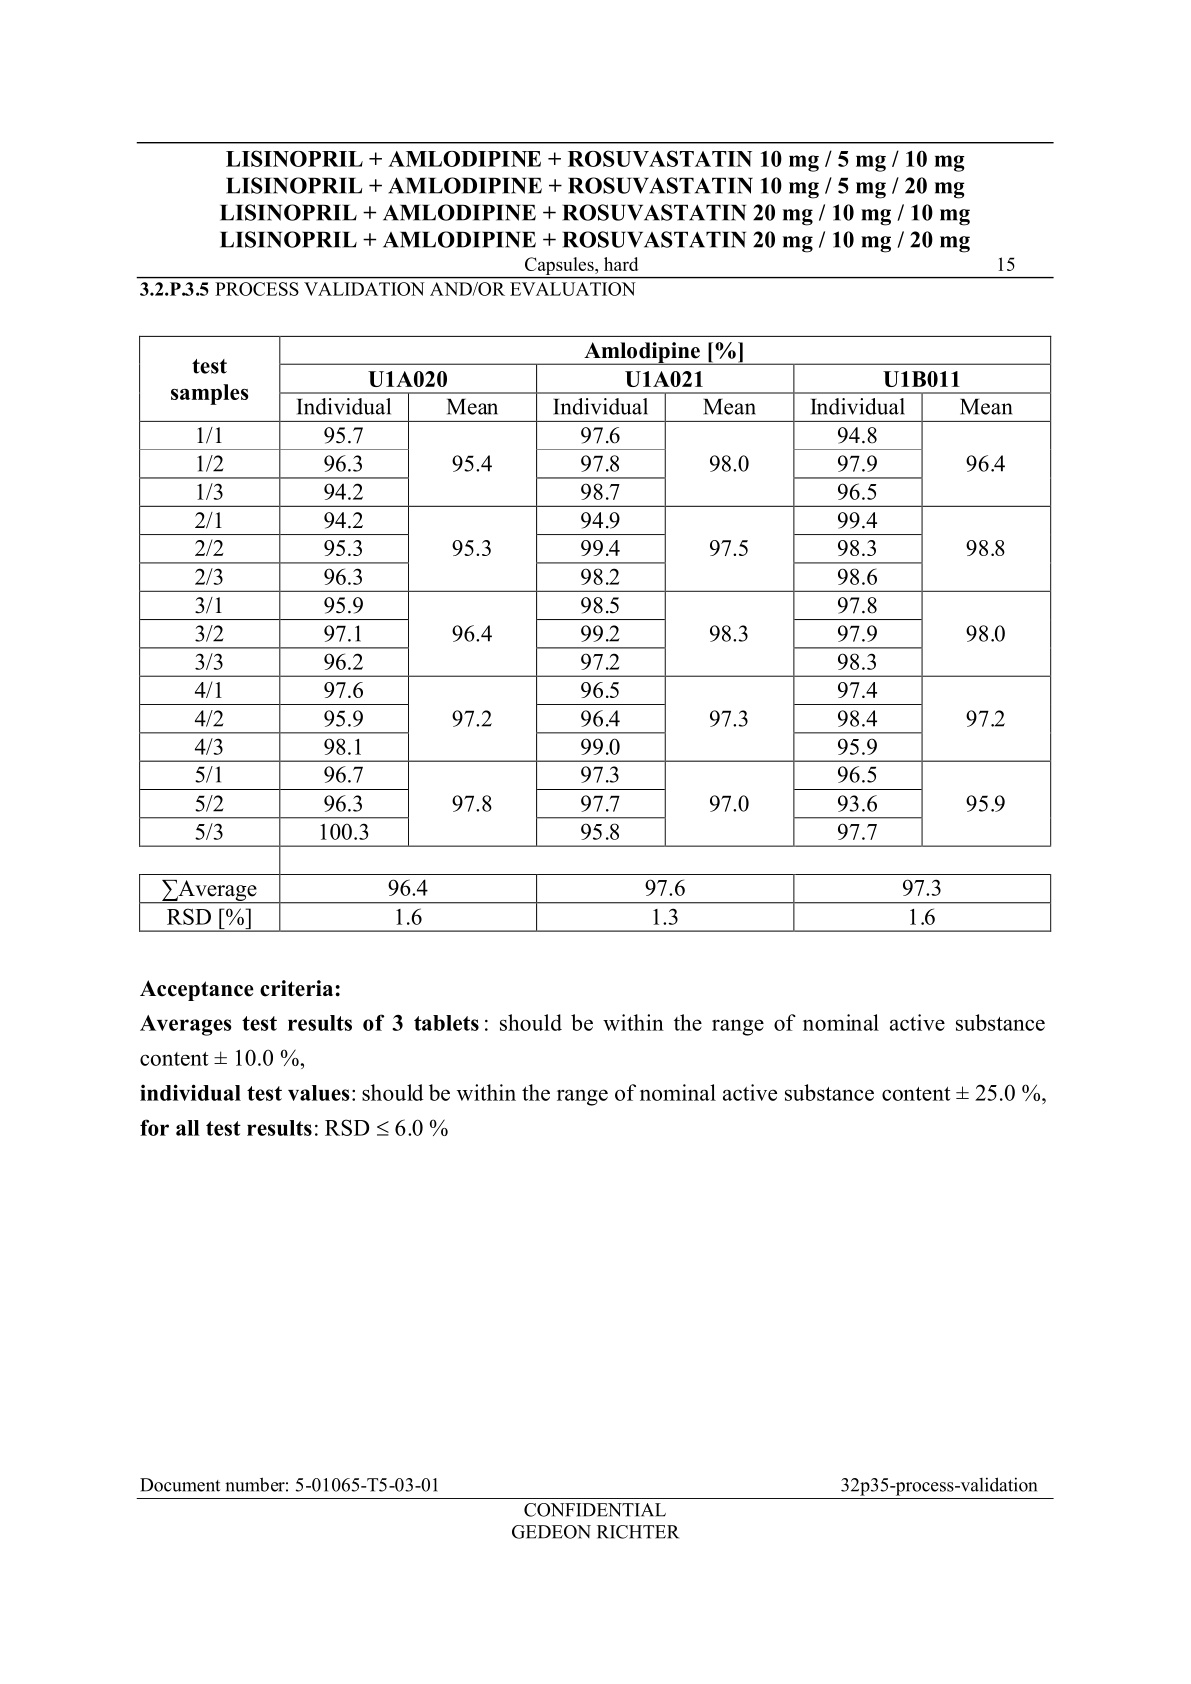full_lined: (137, 874, 1052, 933)
merged_cells: (138, 335, 1052, 848)
